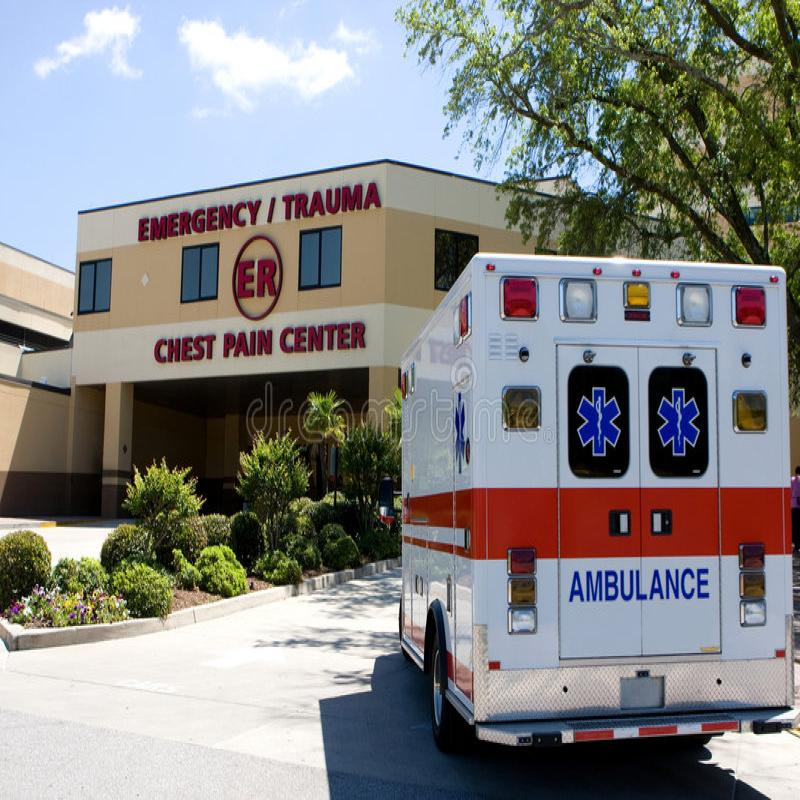ambulance: (380, 240, 799, 800)
